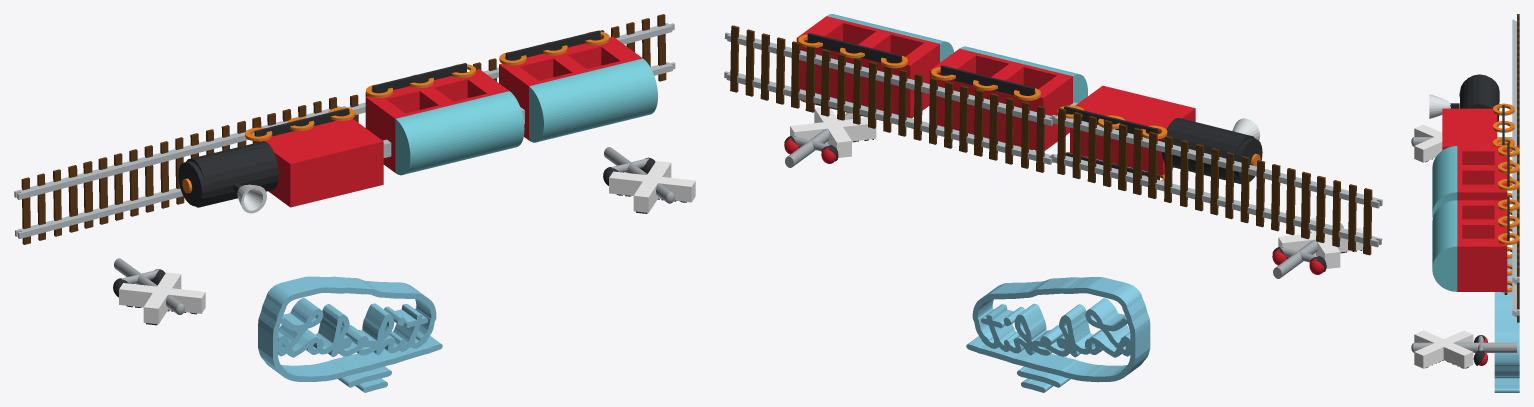
File: tinker.obj
3 renders of one model, left to right at view 1: azimuth 30°, elevation 25°; view 2: azimuth 150°, elevation 25°; view 3: azimuth 270°, elevation 25°, orthographic. The views are drawn at different scales.
Visible parts, largest first — view 1: group_0_15277357, group_0_7720667, group_0_8768998, group_0_2829873, group_0_6306067, group_0_12568524, group_0_16448250, group_0_16089887, group_0_10988977, group_0_14541540; view 2: group_0_6306067, group_0_15277357, group_0_8768998, group_0_12568524, group_0_2829873, group_0_16448250, group_0_16089887, group_0_10988977, group_0_7720667; view 3: group_0_15277357, group_0_7720667, group_0_16448250, group_0_8768998, group_0_16089887, group_0_2829873, group_0_12568524, group_0_10988977, group_0_6306067, group_0_14541540.
Boxes of the visible parts, bbox=[...] form: group_0_15277357: bbox=[113, 36, 642, 290]; group_0_7720667: bbox=[395, 58, 657, 175]; group_0_8768998: bbox=[258, 276, 442, 392]; group_0_2829873: bbox=[113, 30, 686, 325]; group_0_6306067: bbox=[21, 14, 666, 244]; group_0_12568524: bbox=[14, 23, 675, 238]; group_0_16448250: bbox=[119, 161, 695, 324]; group_0_16089887: bbox=[182, 31, 609, 193]; group_0_10988977: bbox=[114, 147, 674, 314]; group_0_14541540: bbox=[237, 184, 266, 213]; group_0_6306067: bbox=[730, 25, 1372, 255]; group_0_15277357: bbox=[784, 16, 1324, 274]; group_0_8768998: bbox=[966, 277, 1150, 392]; group_0_12568524: bbox=[724, 32, 1382, 247]; group_0_2829873: bbox=[784, 33, 1362, 272]; group_0_16448250: bbox=[790, 107, 1363, 268]; group_0_16089887: bbox=[798, 34, 1260, 181]; group_0_10988977: bbox=[785, 113, 1343, 278]; group_0_7720667: bbox=[827, 14, 1087, 103]; group_0_15277357: bbox=[1442, 108, 1507, 365]; group_0_7720667: bbox=[1432, 146, 1457, 291]; group_0_16448250: bbox=[1414, 124, 1473, 368]; group_0_8768998: bbox=[1494, 258, 1519, 392]; group_0_16089887: bbox=[1493, 103, 1519, 292]; group_0_2829873: bbox=[1425, 74, 1509, 368]; group_0_12568524: bbox=[1512, 19, 1519, 316]; group_0_10988977: bbox=[1411, 137, 1516, 352]; group_0_6306067: bbox=[1517, 14, 1519, 322]; group_0_14541540: bbox=[1429, 94, 1450, 118].
Size of the model in its own units: 254 by 109 by 43.43.
